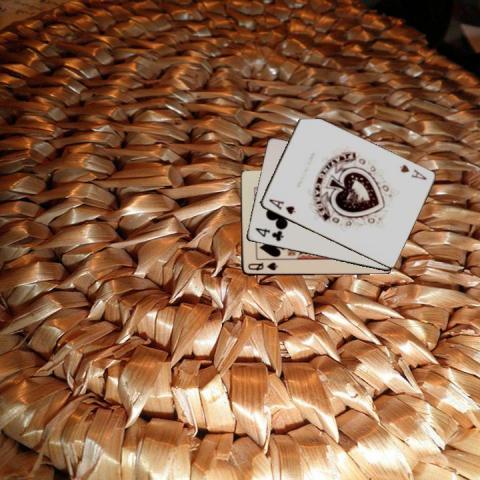4c: (252, 224, 285, 243)
As: (265, 196, 297, 216), (396, 162, 428, 182)
Qs: (244, 259, 278, 272)
